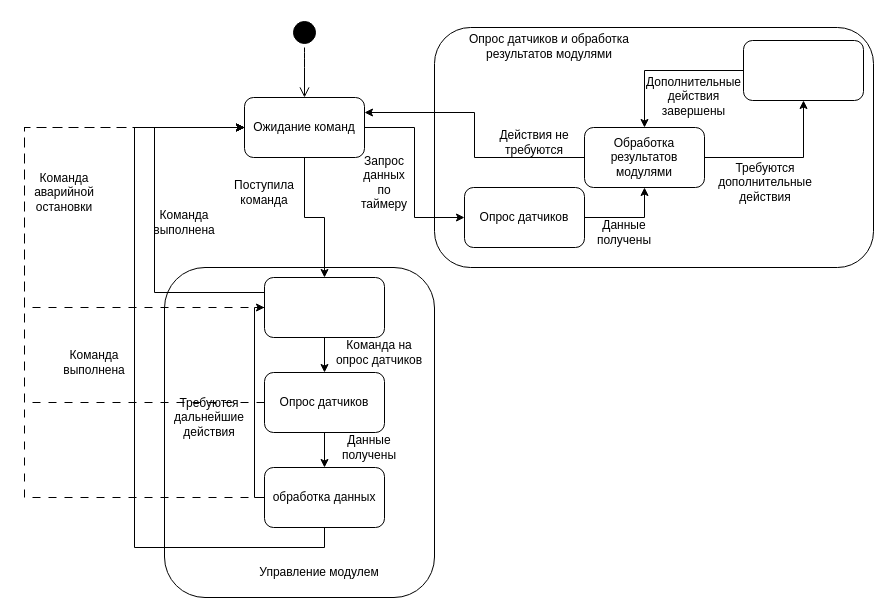
Some shapes in this 891 by 615 pixel diagram are drawn without their labels. Here are the shapes that lost their labels. From the top down, the centre of each, then its label:
At (x=803, y=70): "Выполнение действий".
At (x=324, y=307): "выполнение команды".
